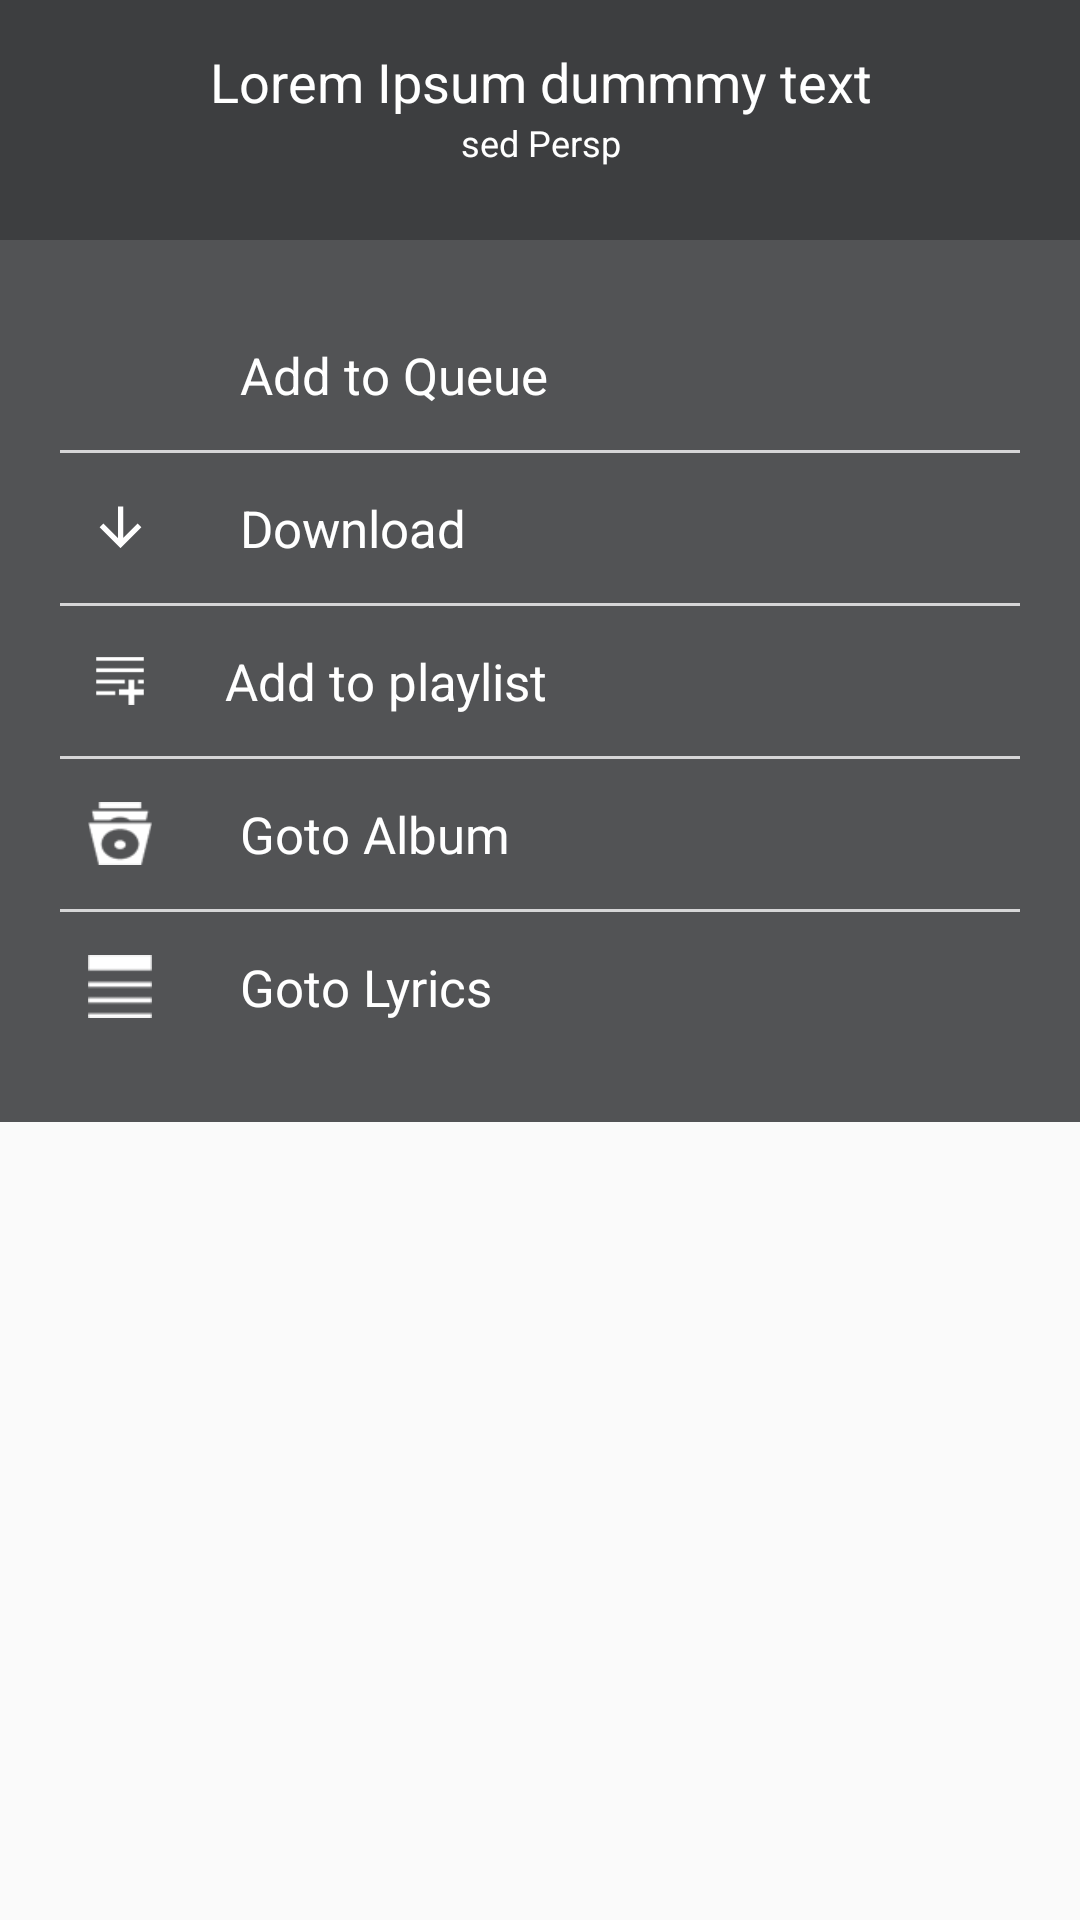

Named icons in this screenshot (1080w x 1920h) and their centers, (x,y):
arrow downwhite: (120,527)
layric: (120,986)
